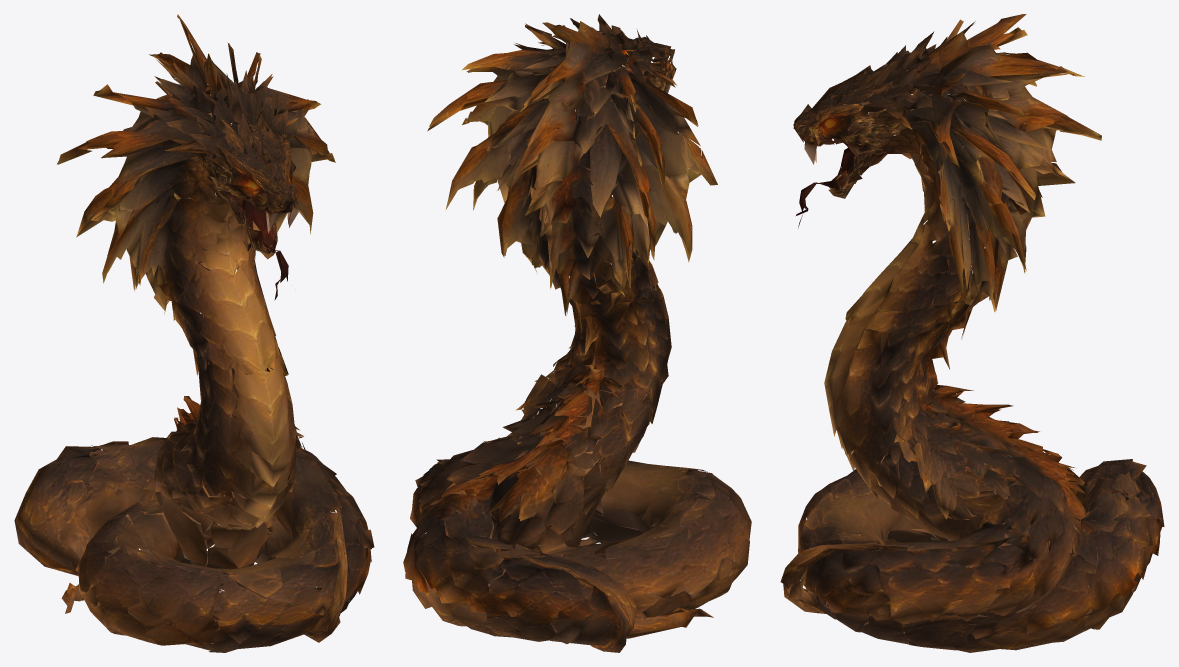
Rendered from GlassSnake.fbx.
3 renders of one model, left to right at view 1: azimuth 30°, elevation 25°; view 2: azimuth 150°, elevation 25°; view 3: azimuth 270°, elevation 25°, orthographic. The views are drawn at different scales.
Visible parts, largest first — view 1: GlassSnake_Body; view 2: GlassSnake_Body; view 3: GlassSnake_Body.
Part boxes in pixels (x1,y1,x2,y2): GlassSnake_Body: (14,14,374,652); GlassSnake_Body: (403,14,751,652); GlassSnake_Body: (780,14,1164,652).
Bounding box in the file's own units: 0.6707 × 1.3 × 0.7737.
1 material, 1 textured.
